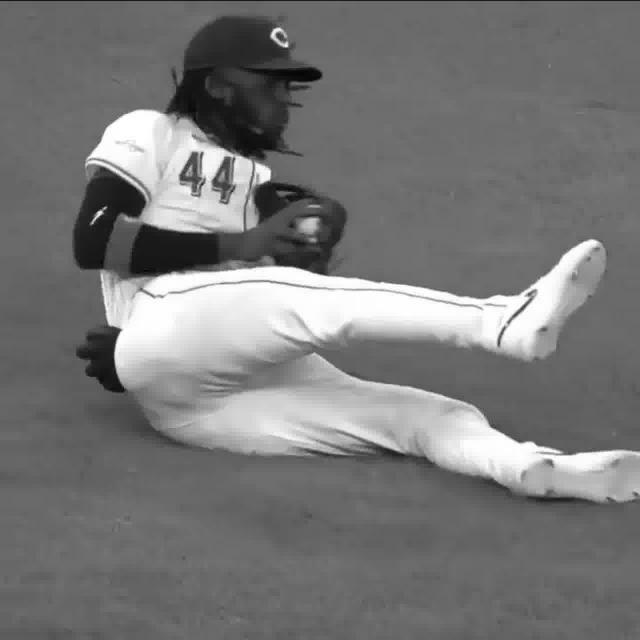baseball: (299, 208, 328, 242)
baseball_glove: (250, 182, 351, 277)
shoe: (503, 238, 615, 368), (515, 442, 640, 505)
